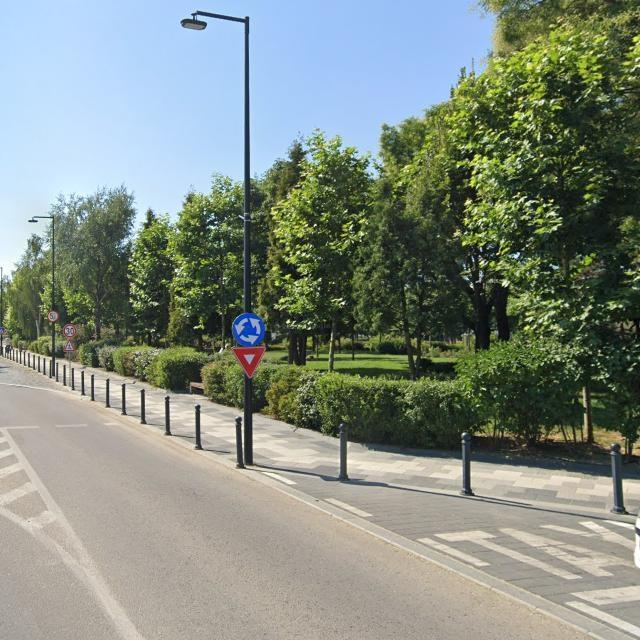forb_speed_over_30: (63, 324, 77, 339)
prio_give_way: (232, 346, 267, 379)
warn_crosswalk: (64, 339, 76, 352)
